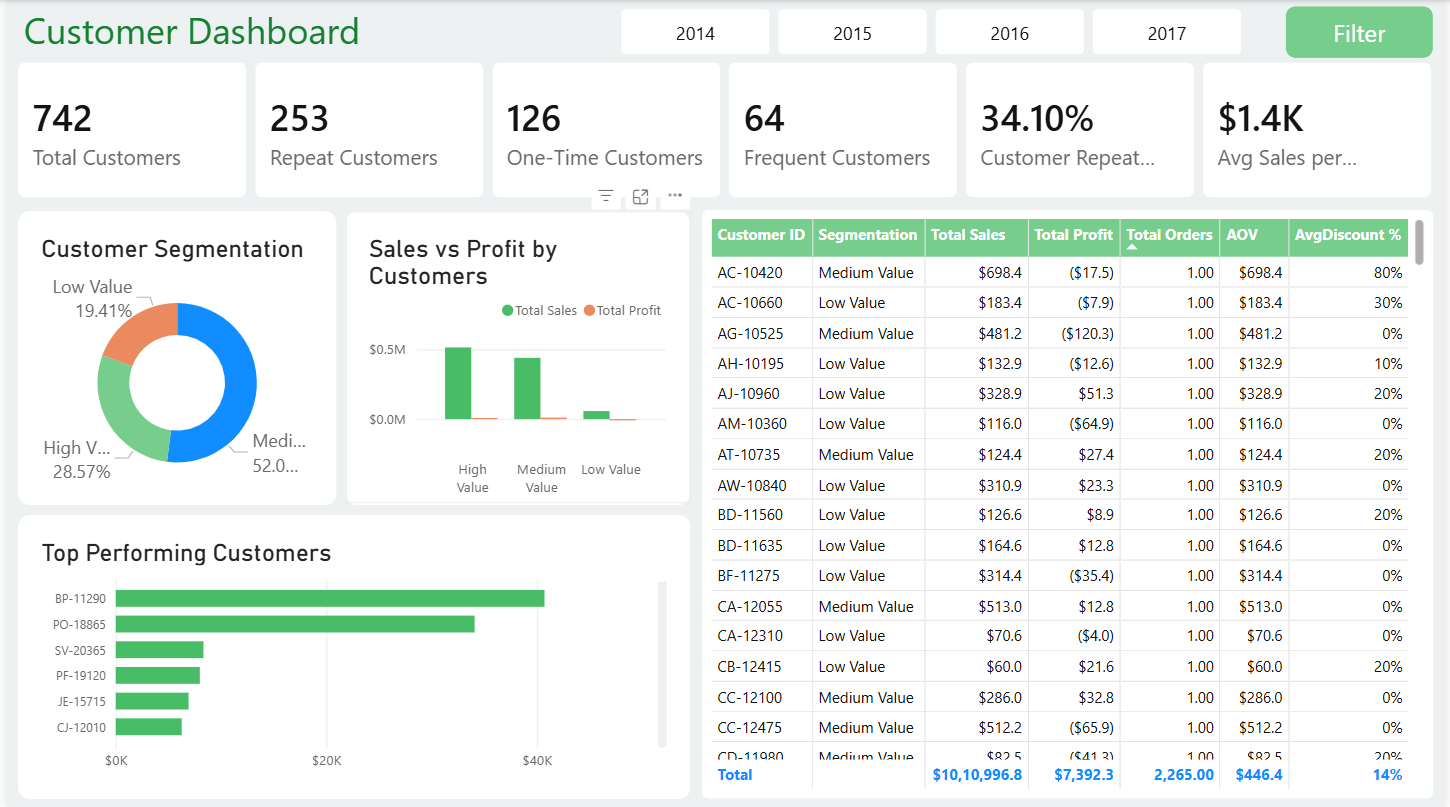

This screenshot's page, from the dashboard's own definition file:
{"tool":"powerbi","page":{"name":"Customer Dashboard","canvas":[1280,720],"ordinal":3},"visuals":[{"type":"textbox","box":[9.8,0,325.2,55.2],"z":0},{"type":"cardVisual","fields":{"Data":["Fact_Sales.Total Customers","Dim_Customer.Repeat Customers","Dim_Customer.One-Time Customers","Dim_Customer.Frequent Customers","Dim_Customer.-- Customer Repeat Rate %Customer Repeat Rate %","Dim_Customer.-- Avg Sales per CustomerAvg Sales per Customer"]},"box":[9.8,55.2,1260,120],"z":1000},{"type":"donutChart","title":"Customer Segmentation","fields":{"Category":["Fact_Sales.Customer Segment"],"Y":["Fact_Sales.Total Customers"]},"box":[9.8,187.7,283.4,261.4],"z":2000},{"type":"tableEx","fields":{"Values":["Dim_Customer.Customer ID","Fact_Sales.Customer Segment","Fact_Sales.Total Sales","Fact_Sales.Total Profit","Fact_Sales.Total Orders","Fact_Sales.Avg Order Value","Fact_Sales.Average Discount %"]},"box":[618.4,186.5,651.5,523.9],"z":3000},{"type":"barChart","title":"Top Performing Customers","fields":{"Y":["Fact_Sales.Total Sales"],"Category":["Dim_Customer.Customer ID"]},"box":[9.8,458.9,598.8,252.8],"z":4000},{"type":"clusteredColumnChart","title":"Sales vs Profit by Customers","fields":{"Y":["Fact_Sales.Total Sales","Fact_Sales.Total Profit"],"Category":["Fact_Sales.Customer Segment"]},"box":[301.8,187.7,306.8,261.4],"z":5000},{"type":"actionButton","title":"Filter Button","box":[1139.2,5.6,131.1,46],"z":6000},{"type":"advancedSlicerVisual","fields":{"Values":["Dim_Date.Year"]},"box":[542.1,3.3,565.5,50.1],"z":8000}]}

Visuals, with their boxes in screenshot pixels (x1, y1, x2, y2), scaled from the page's 1280x720 canvas onto the 1450x807 screenshot:
textbox: crop(11, 0, 379, 62)
cardVisual - Fact_Sales.Total Customers x Dim_Customer.Repeat Customers: crop(11, 62, 1438, 196)
"Customer Segmentation" donutChart: crop(11, 210, 332, 503)
tableEx - Dim_Customer.Customer ID x Fact_Sales.Customer Segment: crop(701, 209, 1439, 796)
"Top Performing Customers" barChart: crop(11, 514, 689, 798)
"Sales vs Profit by Customers" clusteredColumnChart: crop(342, 210, 689, 503)
"Filter Button" actionButton: crop(1290, 6, 1439, 58)
advancedSlicerVisual - Dim_Date.Year: crop(614, 4, 1255, 60)
